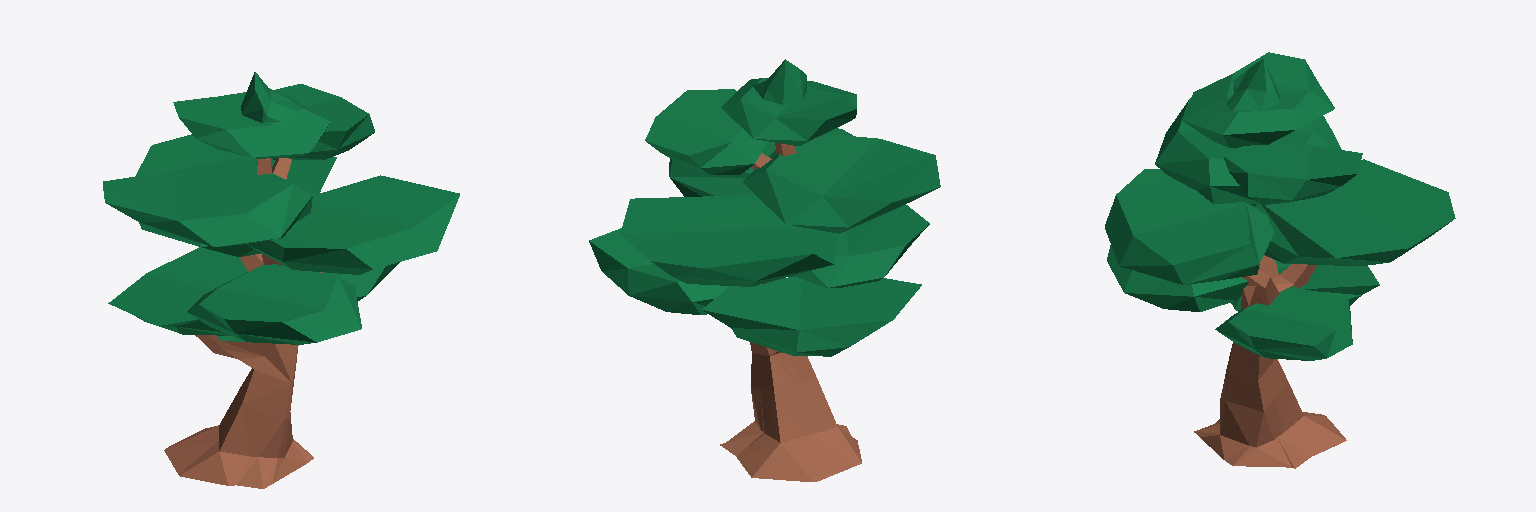
The model's file is stack.obj.
The picture shows the model from 3 angles: view 1: azimuth 30°, elevation 25°; view 2: azimuth 150°, elevation 25°; view 3: azimuth 270°, elevation 25°; orthographic projection.
Parts seen in each view (by area): view 1: TreeStackA; view 2: TreeStackA; view 3: TreeStackA.
Boxes of the visible parts, box(x1,y1,x2,y2) form: TreeStackA: box(103, 72, 459, 488); TreeStackA: box(589, 59, 940, 481); TreeStackA: box(1105, 52, 1455, 468).
Size of the model in its own units: 5.02 by 5.71 by 4.71.